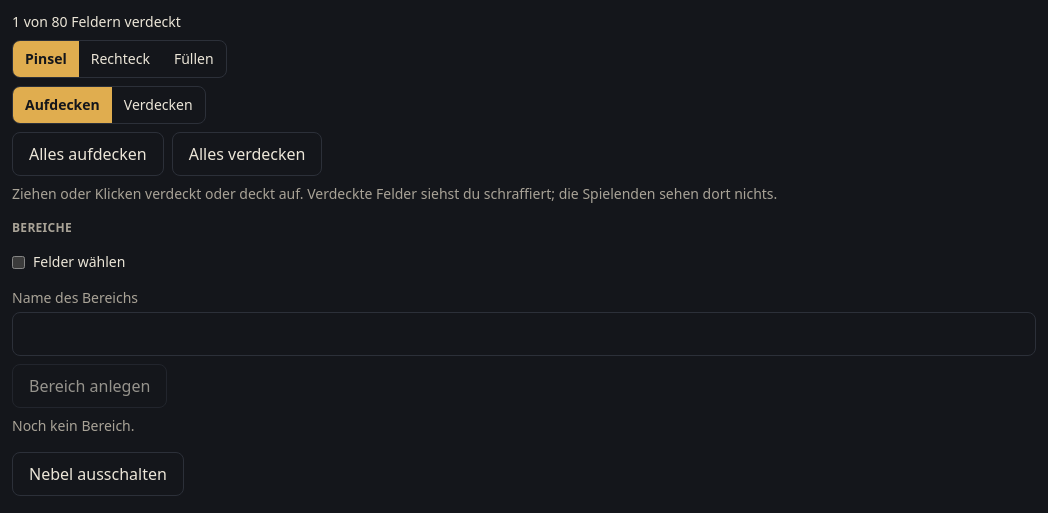
the Nebel panel › turns fog off again
Click the button "Nebel ausschalten".
click(98, 474)  # box 12,452 -> 184,496
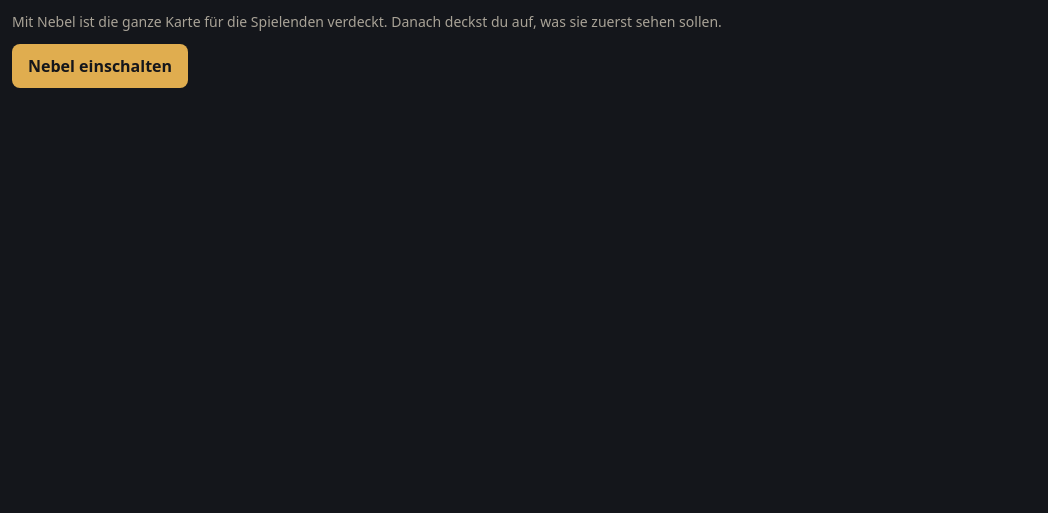
expect the button "Nebel einschalten" is shown: met, box 12,44 -> 188,88
